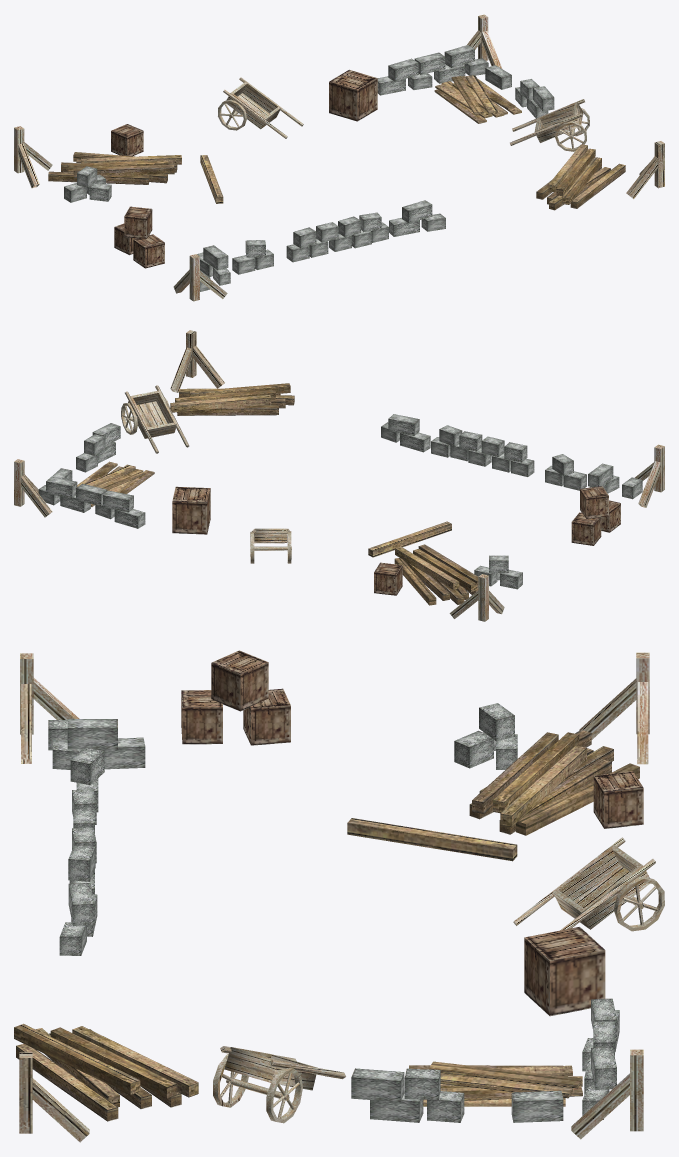
Rendered from found_6x4_a.dae.
The picture shows the model from 3 angles, top to bottom: view 1: azimuth 30°, elevation 25°; view 2: azimuth 150°, elevation 25°; view 3: azimuth 270°, elevation 25°; orthographic projection. The views are drawn at different scales.
Parts seen in each view (by area): view 1: foundation_6x4; view 2: foundation_6x4; view 3: foundation_6x4.
Part boxes in pixels (x1,y1,x2,y2): foundation_6x4: (14, 14, 664, 301); foundation_6x4: (14, 330, 664, 621); foundation_6x4: (14, 650, 664, 1142).
Size of the model in its own units: 31 by 3 by 20.78.
